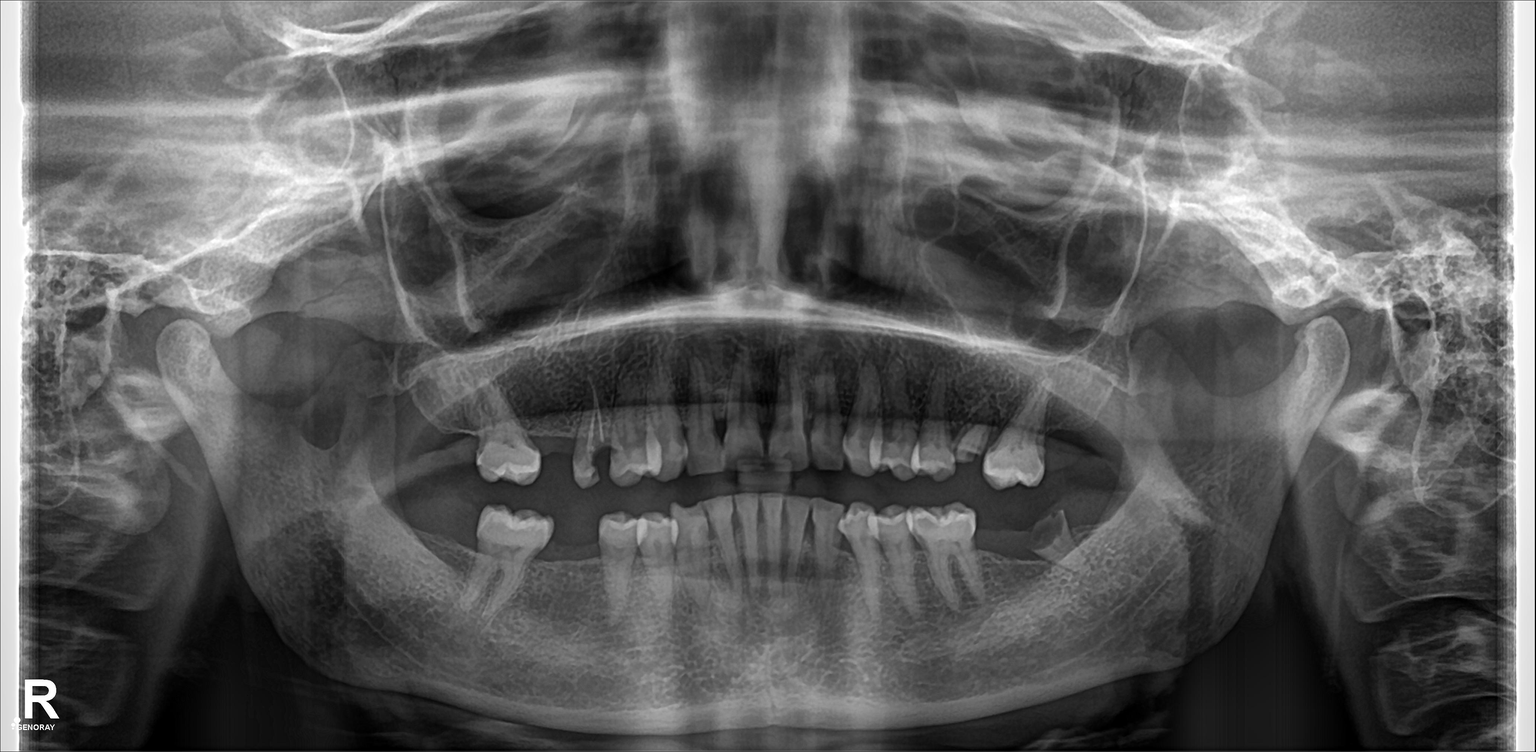Dental Caries: (1022, 517, 1073, 554)
Endodontically Treated Tooth: (570, 382, 615, 487)
Missing Tooth: (551, 519, 603, 623), (1052, 389, 1107, 487), (436, 378, 481, 489), (436, 510, 483, 612), (393, 385, 435, 487), (391, 497, 429, 603), (983, 516, 1025, 611), (540, 385, 566, 493), (1080, 501, 1123, 560)
Retained Root: (955, 391, 992, 475)
